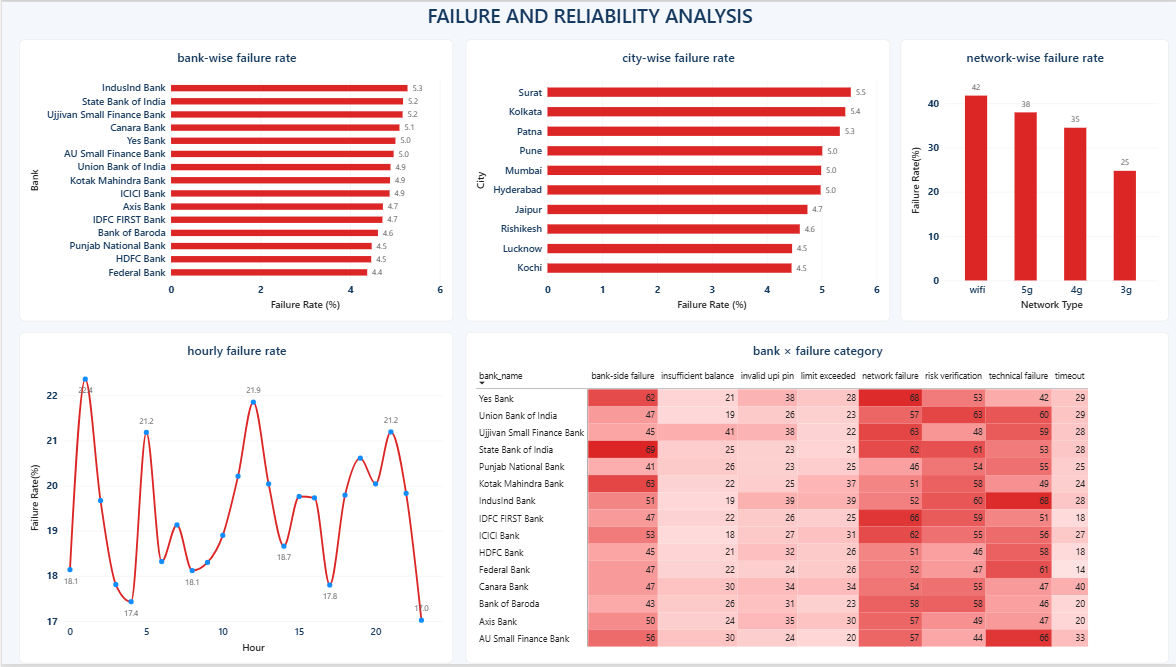

This screenshot's page, from the dashboard's own definition file:
{"tool":"powerbi","page":{"name":"failure & reliability","canvas":[1920,1080],"ordinal":1},"visuals":[{"type":"textbox","box":[-0.2,0,1920.4,83.2],"z":0},{"type":"clusteredBarChart","title":"bank-wise failure rate","fields":{"Category":["public vw_bank_performance.bank_name"],"Y":["Sum(public vw_bank_performance.failure_rate)"]},"box":[28.6,61.6,708.3,459.8],"z":1000},{"type":"clusteredBarChart","title":"city-wise failure rate","fields":{"Category":["public vw_city_performance.city"],"Y":["Sum(public vw_city_performance.failure_rate)"]},"box":[756.7,61.6,692.9,459.8],"z":2000},{"type":"lineChart","title":"hourly failure rate","fields":{"Category":["public vw_channel_hourly_performance.transaction_hour"],"Y":["Sum(public vw_channel_hourly_performance.failure_rate)"]},"box":[28.6,539,708.3,541.2],"z":3000},{"type":"clusteredColumnChart","title":"network-wise failure rate","fields":{"Category":["public vw_device_network_performance.network_type"],"Y":["Sum(public vw_device_network_performance.failure_rate)"]},"box":[1467.3,61.6,437.8,459.8],"z":4000},{"type":"pivotTable","title":"bank × failure category","fields":{"Columns":["public vw_bank_failure_category.failure_category"],"Rows":["public vw_bank_failure_category.bank_name"],"Values":["Sum(public vw_bank_failure_category.failed_transactions)"]},"box":[756.7,539,1148.3,541.2],"z":5000}]}

Visuals, with their boxes in screenshot pixels (x1, y1, x2, y2), scaled from the page's 1920x1080 canvas onto the 1176x667 screenshot:
textbox: {"left": 0, "top": 0, "right": 1175, "bottom": 51}
"bank-wise failure rate" clusteredBarChart: {"left": 18, "top": 38, "right": 451, "bottom": 322}
"city-wise failure rate" clusteredBarChart: {"left": 463, "top": 38, "right": 888, "bottom": 322}
"hourly failure rate" lineChart: {"left": 18, "top": 333, "right": 451, "bottom": 666}
"network-wise failure rate" clusteredColumnChart: {"left": 899, "top": 38, "right": 1167, "bottom": 322}
"bank × failure category" pivotTable: {"left": 463, "top": 333, "right": 1167, "bottom": 666}
